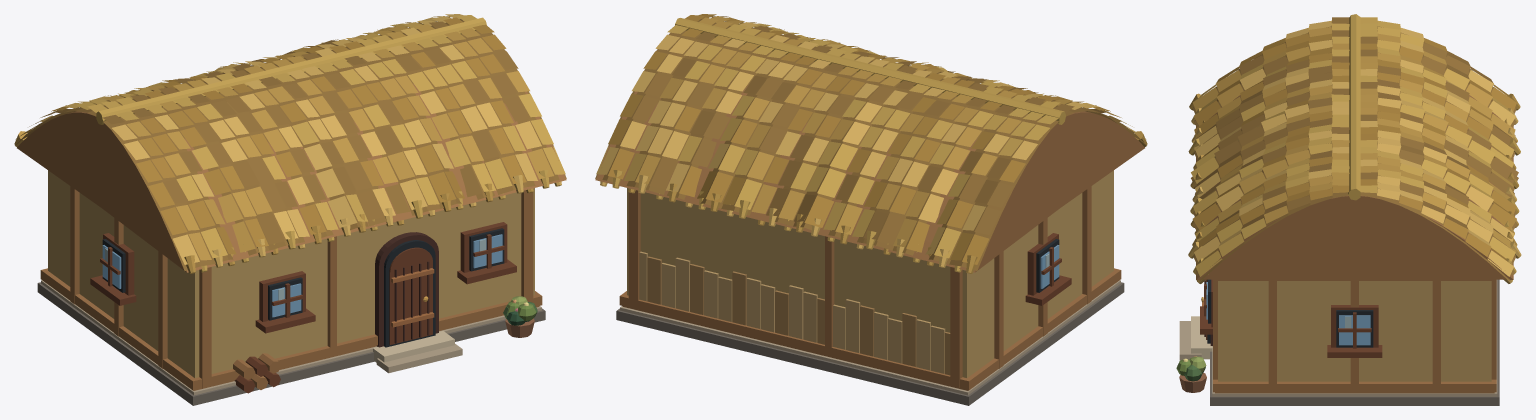
Rendered from moradia-nivel-1.glb.
The picture shows the model from 3 angles, left to right: view 1: azimuth 30°, elevation 25°; view 2: azimuth 150°, elevation 25°; view 3: azimuth 270°, elevation 25°; orthographic projection. The views are drawn at different scales.
Parts seen in each view (by area): view 1: Moradia 01 #bb9b61, Moradia 01 #92703a, Moradia 01 #9f7145, Moradia 01 #c8a452, Moradia 01 #bc9549, Moradia 01 #d4ae5e, Moradia 01 #ab843d, Moradia 01 #70432c, Moradia 01 #746c62, Moradia 01 #b4a38a, Moradia 01 #252c32, Moradia 01 #4c3028 (+3 smaller); view 2: Moradia 01 #bb9b61, Moradia 01 #92703a, Moradia 01 #9f7145, Moradia 01 #c8a452, Moradia 01 #d4ae5e, Moradia 01 #ab843d, Moradia 01 #bc9549, Moradia 01 #746c62, Moradia 01 #bc9c68, Moradia 01 #a98352, Moradia 01 #c1a16b, Moradia 01 #b4a38a (+1 smaller); view 3: Moradia 01 #9f7145, Moradia 01 #bb9b61, Moradia 01 #92703a, Moradia 01 #c8a452, Moradia 01 #d4ae5e, Moradia 01 #bc9549, Moradia 01 #ab843d, Moradia 01 #746c62, Moradia 01 #70432c, Moradia 01 #b4a38a, Moradia 01 #567185, Moradia 01 #252c32 (+2 smaller).
Boxes of the visible parts, box(x1,y1,x2,y2) form: Moradia 01 #bb9b61: box(48, 170, 534, 377); Moradia 01 #92703a: box(15, 19, 566, 270); Moradia 01 #9f7145: box(17, 84, 566, 390); Moradia 01 #c8a452: box(76, 15, 565, 272); Moradia 01 #bc9549: box(14, 24, 553, 273); Moradia 01 #d4ae5e: box(40, 14, 561, 267); Moradia 01 #ab843d: box(15, 16, 526, 254); Moradia 01 #70432c: box(90, 222, 516, 393); Moradia 01 #746c62: box(37, 282, 545, 405); Moradia 01 #b4a38a: box(41, 280, 541, 395); Moradia 01 #252c32: box(102, 228, 504, 347); Moradia 01 #4c3028: box(375, 232, 438, 347); Moradia 01 #bb9b61: box(627, 170, 1113, 377); Moradia 01 #92703a: box(595, 16, 1146, 270); Moradia 01 #9f7145: box(595, 84, 1144, 390); Moradia 01 #c8a452: box(612, 18, 1065, 272); Moradia 01 #d4ae5e: box(596, 22, 1146, 267); Moradia 01 #ab843d: box(608, 14, 1132, 264); Moradia 01 #bc9549: box(628, 16, 1147, 273); Moradia 01 #746c62: box(616, 282, 1124, 405); Moradia 01 #bc9c68: box(639, 251, 945, 373); Moradia 01 #a98352: box(647, 256, 950, 375); Moradia 01 #c1a16b: box(661, 263, 930, 370); Moradia 01 #b4a38a: box(620, 280, 1120, 395); Moradia 01 #9f7145: box(1196, 69, 1513, 393); Moradia 01 #bb9b61: box(1218, 281, 1491, 381); Moradia 01 #92703a: box(1191, 17, 1518, 281); Moradia 01 #c8a452: box(1188, 14, 1520, 276); Moradia 01 #d4ae5e: box(1188, 20, 1521, 283); Moradia 01 #bc9549: box(1189, 27, 1520, 265); Moradia 01 #ab843d: box(1192, 33, 1516, 265); Moradia 01 #746c62: box(1210, 279, 1499, 405); Moradia 01 #70432c: box(1200, 279, 1382, 357); Moradia 01 #b4a38a: box(1179, 280, 1497, 396); Moradia 01 #567185: box(1206, 282, 1370, 345); Moradia 01 #252c32: box(1207, 279, 1373, 347).
Bounding box in the file's own units: 6.62 × 3.97 × 5.53.
